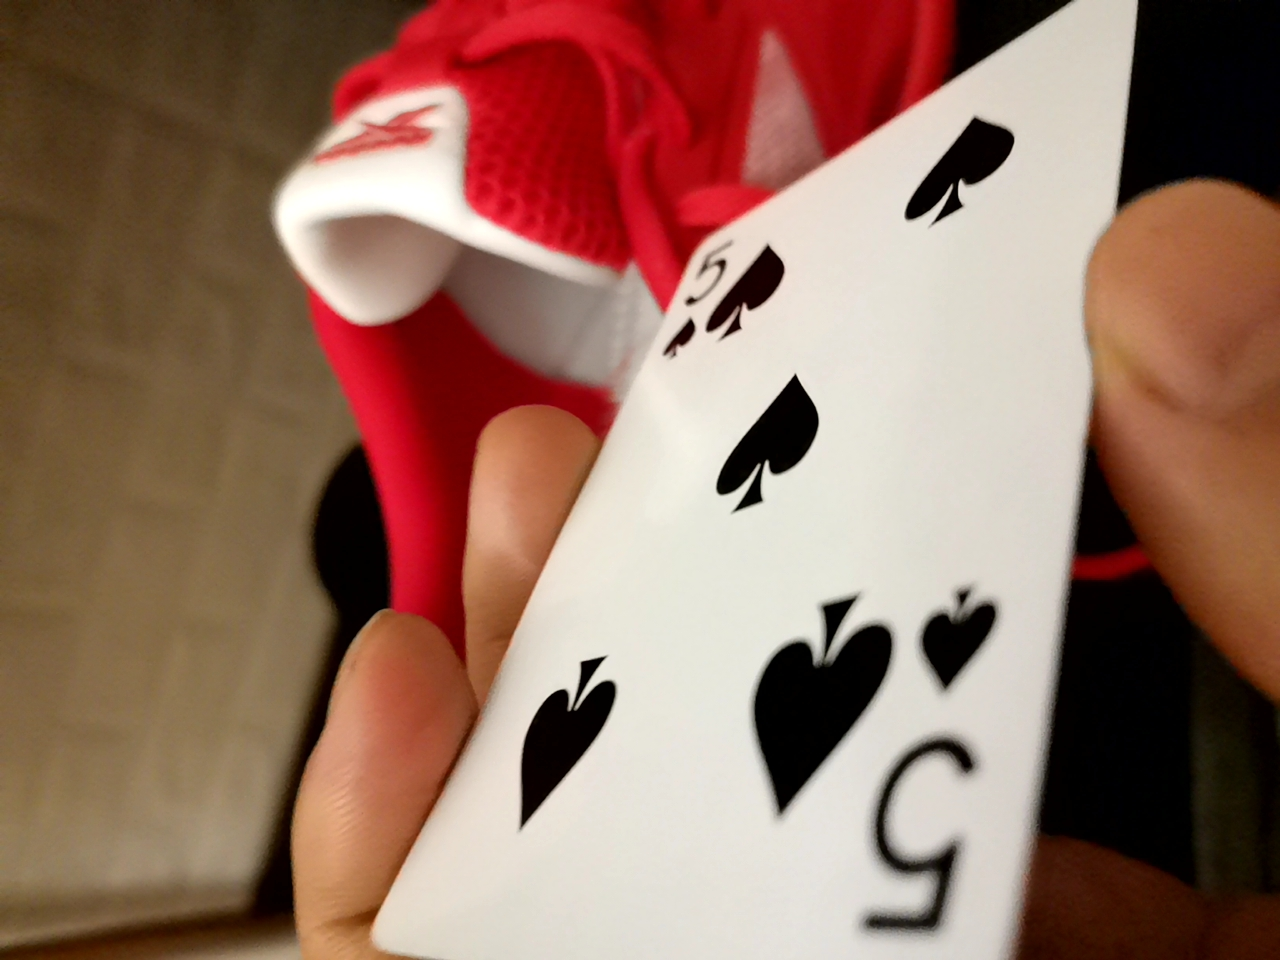ht 5: (297, 17, 1173, 948)
